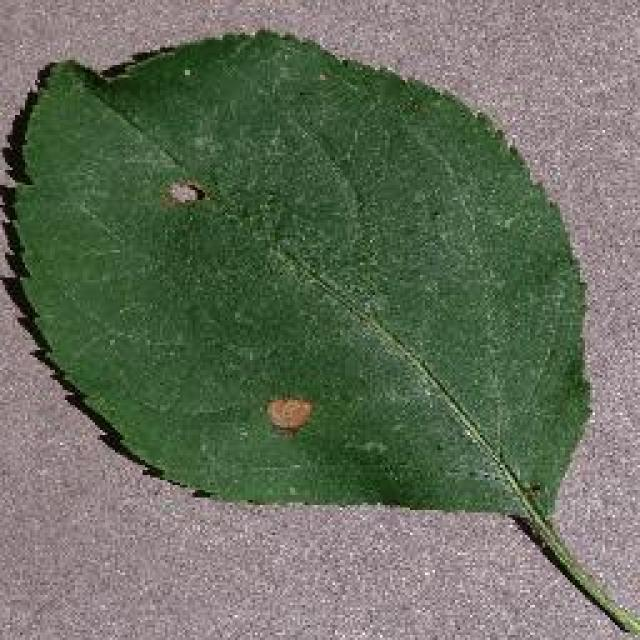Apple___Black_rot: (90, 116, 342, 458)
